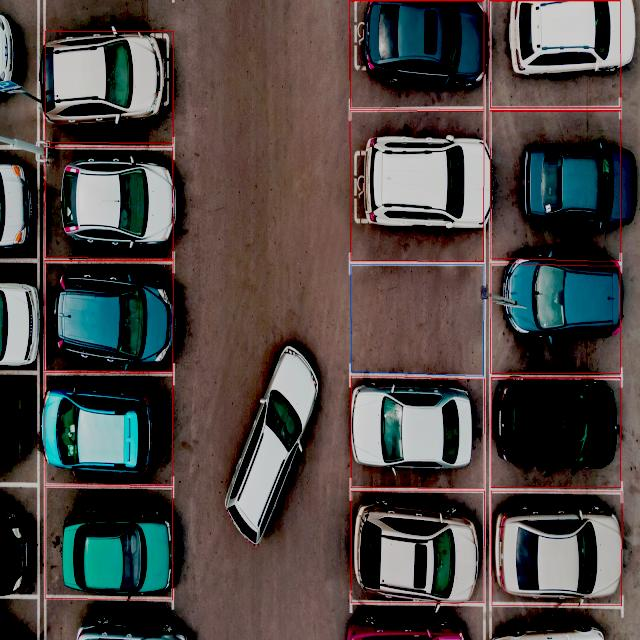empty: (351, 264, 484, 375)
occupied: (492, 111, 620, 243), (494, 252, 624, 374), (351, 492, 485, 604), (489, 493, 624, 604), (351, 376, 484, 486), (491, 376, 621, 488), (41, 29, 173, 139), (44, 146, 174, 257), (41, 375, 170, 484), (357, 121, 488, 228), (44, 490, 173, 598), (44, 264, 174, 371), (358, 0, 488, 86), (496, 0, 619, 90), (45, 600, 187, 640), (0, 487, 38, 598), (0, 266, 40, 370), (0, 147, 37, 256), (348, 610, 478, 640), (1, 373, 36, 479), (492, 611, 620, 639), (0, 598, 38, 638)
